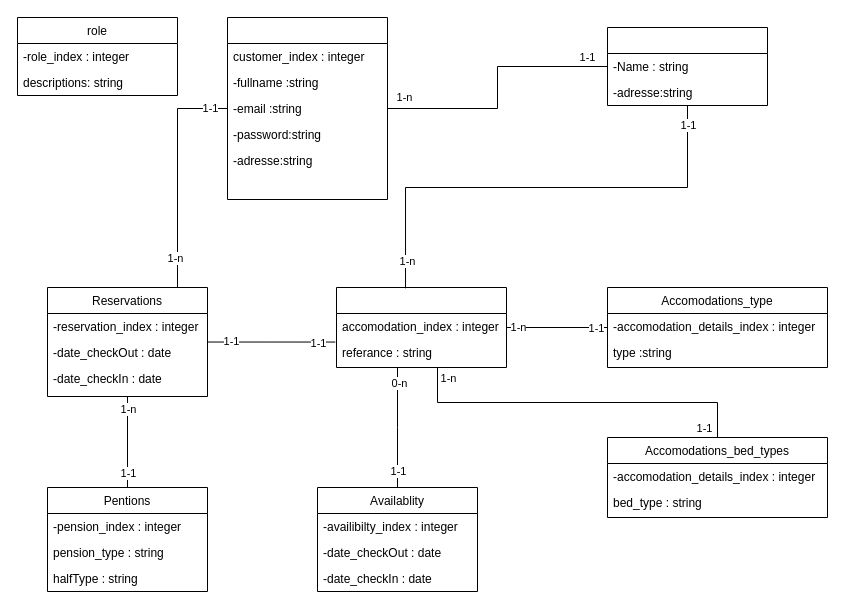
Some shapes in this 845 by 612 pixel diagram are drawn without their labels. Each missing label, with the box of its shape:
Accomodations: (336, 286, 506, 368)
Hotel: (606, 26, 768, 106)
Users: (226, 16, 388, 200)
